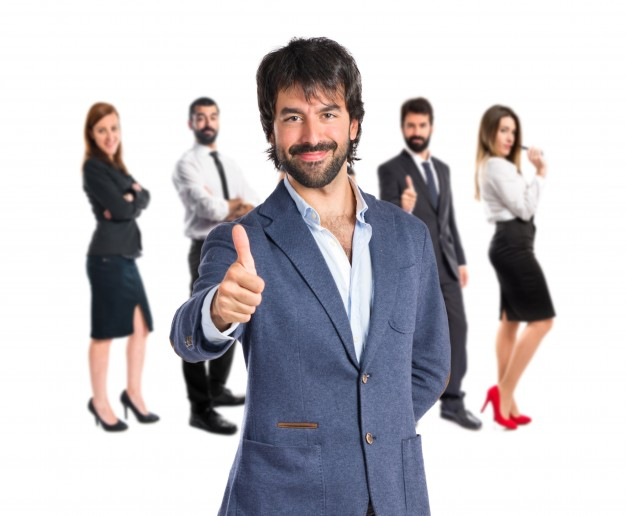thumbsup: (216, 222, 265, 324)
